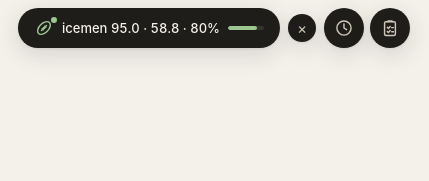
live activity: several at once › a swipe up folds the open card
Click the button with class "la-head" at (149, 28), box [18,8,280,48]
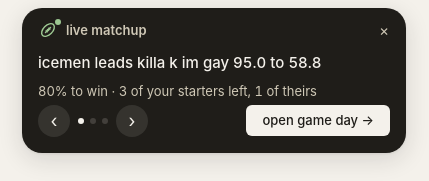
Press the mouse on the element with class "la-card" at (214, 80), box [22,8,406,153]
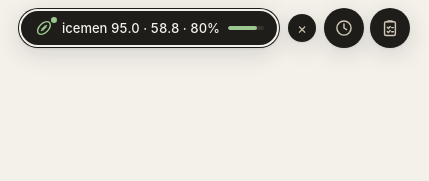
Now the button with class "la-head" is collapsed, box [18,8,280,48]
